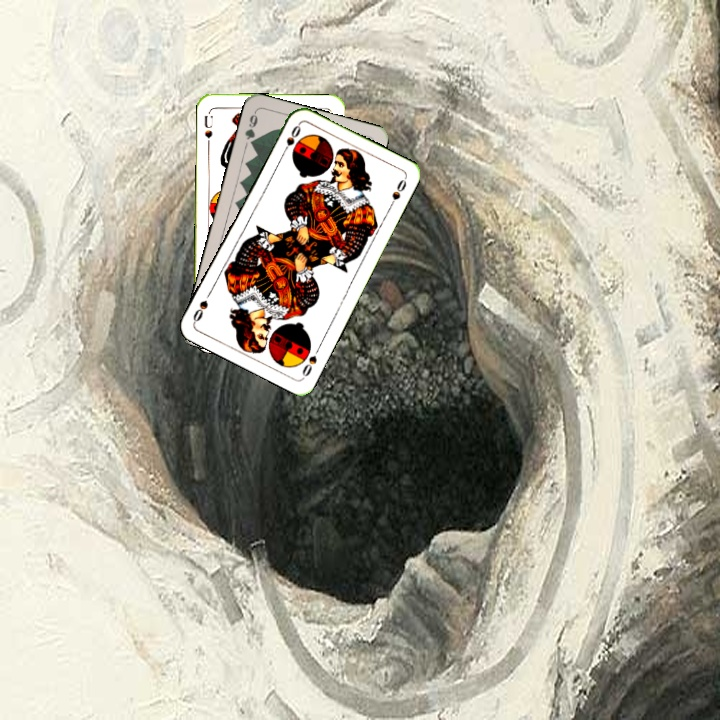G9: (241, 108, 260, 149)
SO: (278, 120, 303, 158), (298, 342, 323, 380)
SU: (200, 107, 215, 148)
